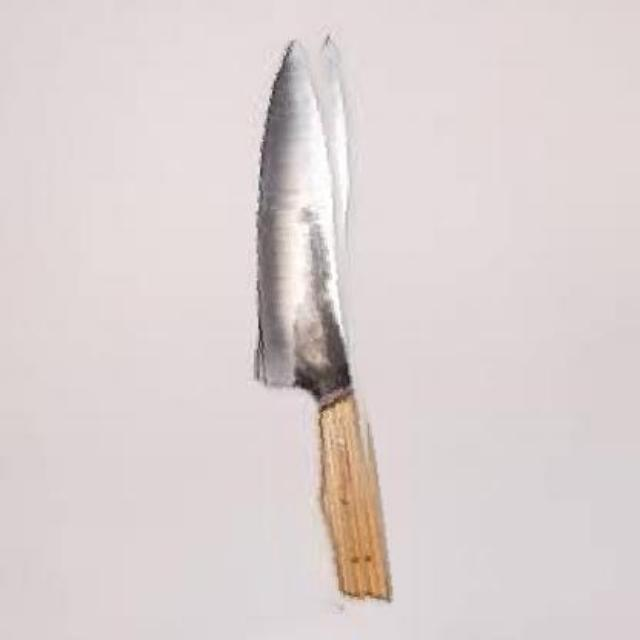Knife: (247, 37, 377, 613)
